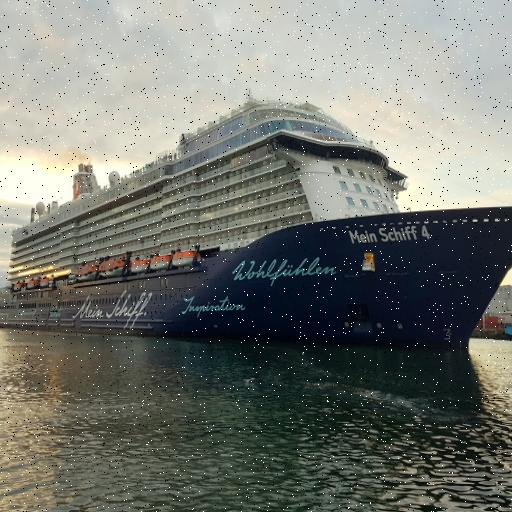cruises: (1, 83, 512, 381)
